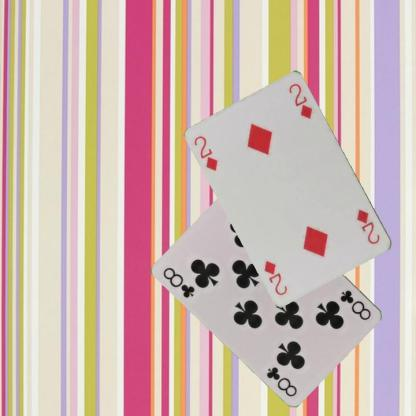2d: (354, 206, 382, 246), (192, 133, 219, 173)
8c: (160, 265, 196, 299), (338, 287, 372, 322)
